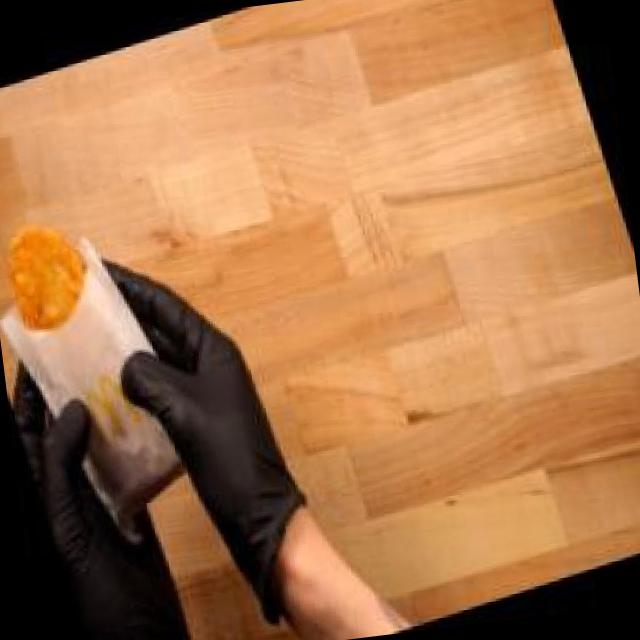Hashbrown: (0, 189, 125, 376)
